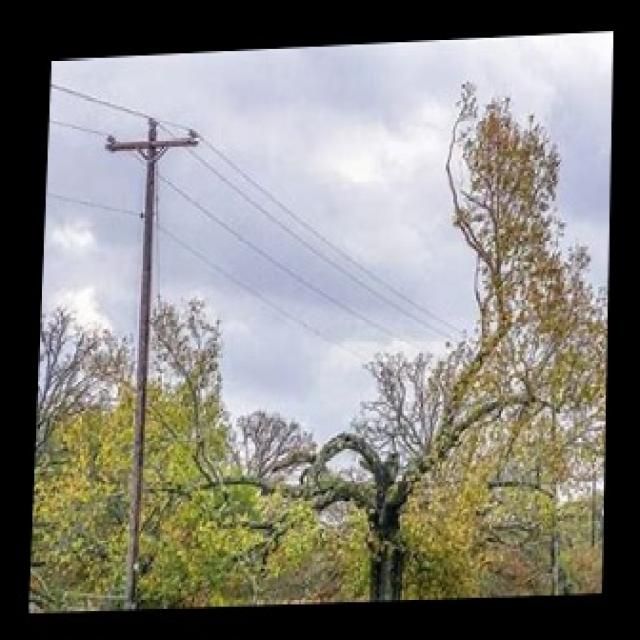utility poles: (85, 98, 208, 608)
